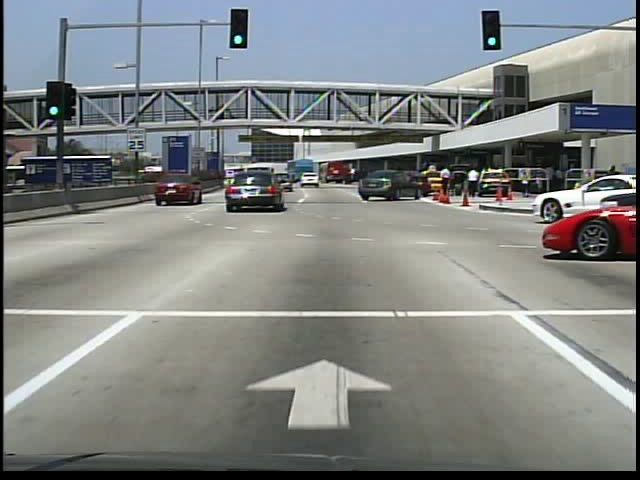person: (438, 167, 456, 204), (464, 170, 480, 202), (517, 170, 533, 201), (217, 104, 226, 123)
